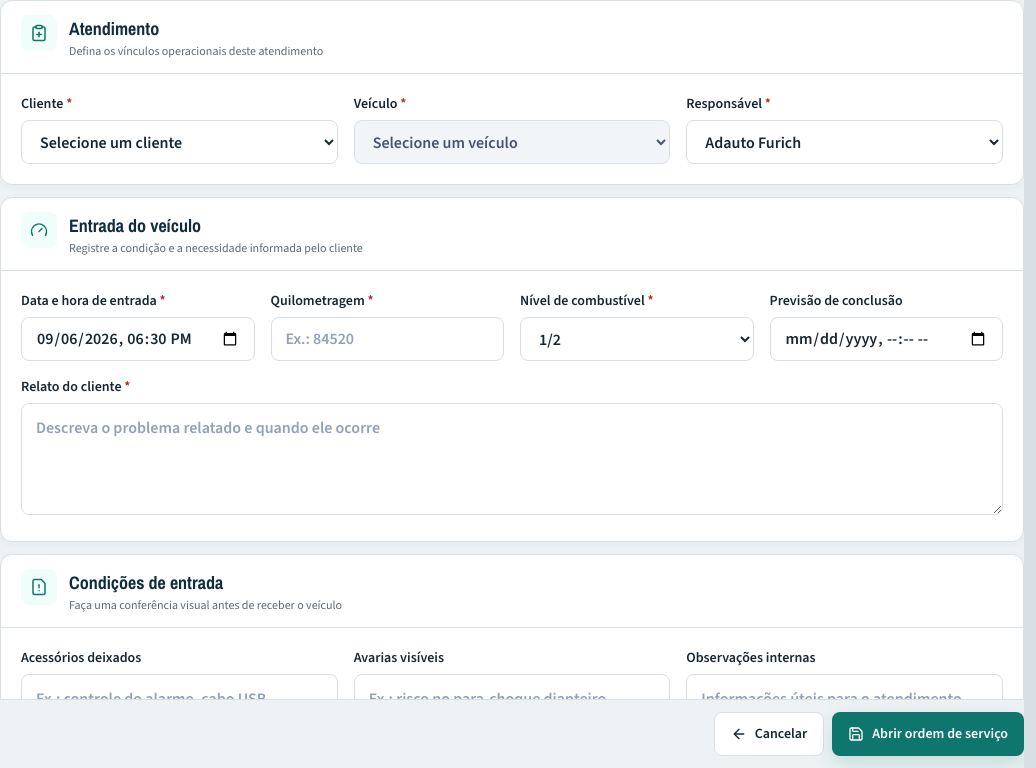
Test: abertura de ordem de serviço › valida os campos obrigatórios antes de enviar
What coordinates should you click on to do the following:
click the button "Abrir ordem de serviço"
I would click on:
 (928, 734)
Its box is left=832, top=712, right=1024, bottom=756.
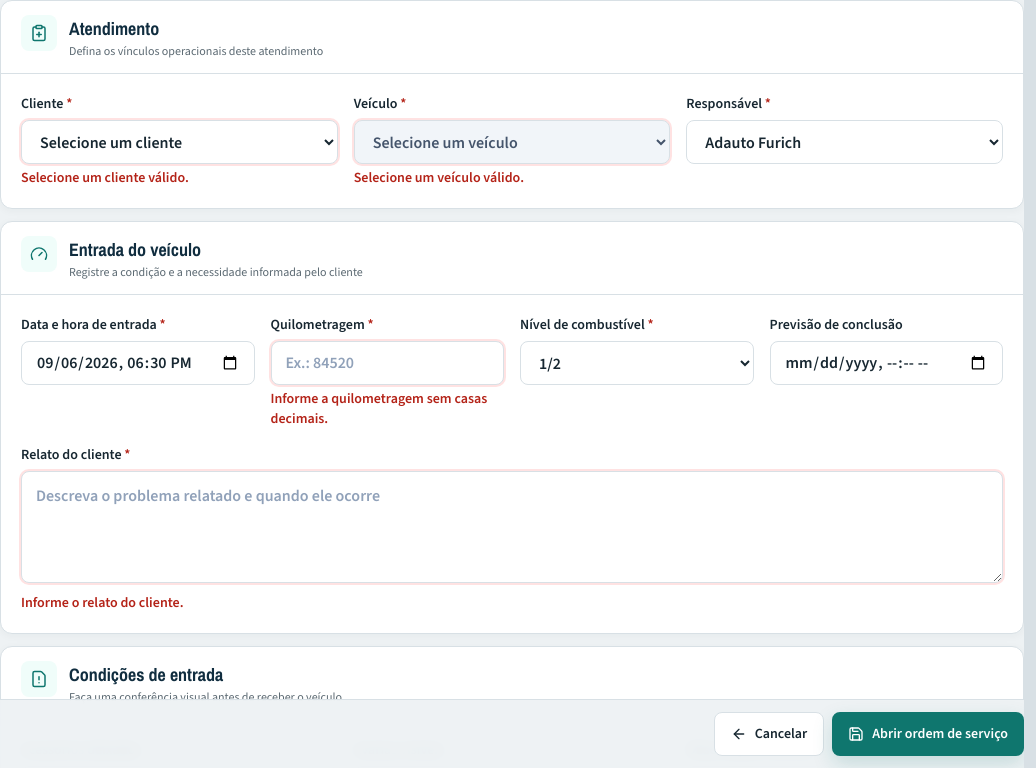
Result: the text "Selecione um cliente válido." is shown at left=21, top=168, right=189, bottom=187
Result: the text "Selecione um veículo válido." is shown at left=354, top=168, right=524, bottom=187
Result: the text "Informe a quilometragem sem casas decimais." is shown at left=270, top=389, right=504, bottom=429
